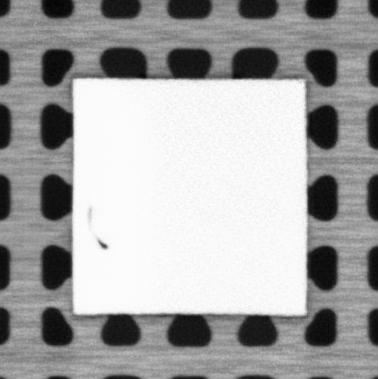DIE_INK: (85, 204, 107, 250)
